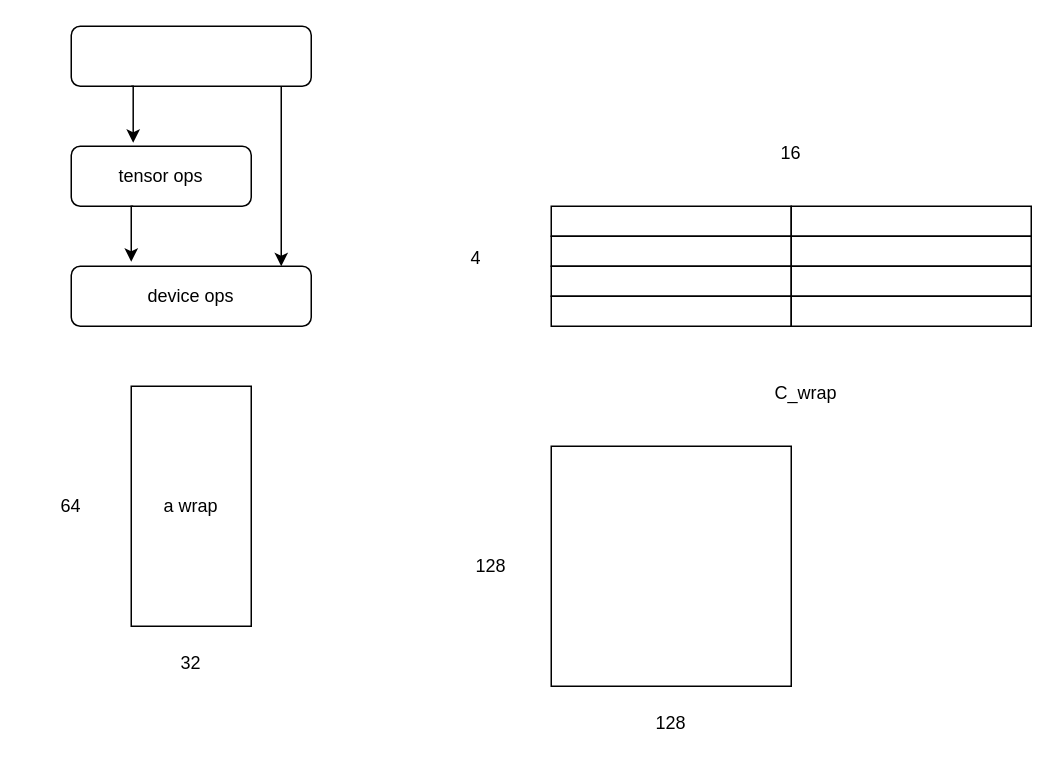
The diagram is 1058 pixels wide and 773 high, and some of its shapes have lost their labels. Each missing label, with the centre of its shape:
"a block" goes at [670,565].
"modules" goes at [190,55].
